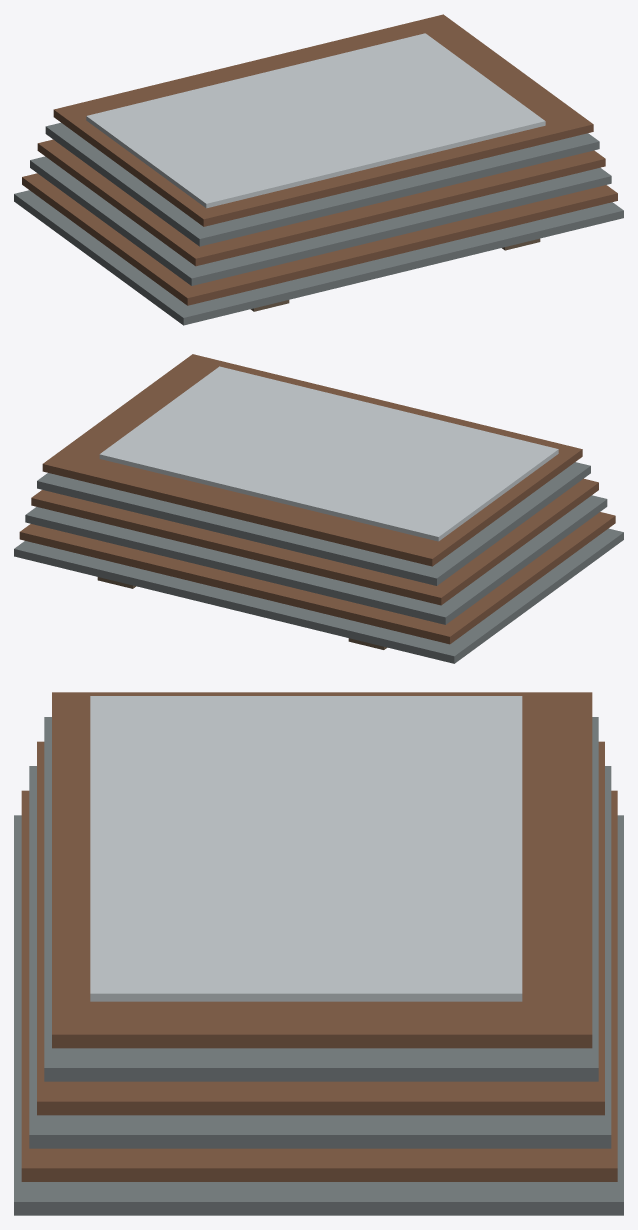
File: plate_stack.glb
3 views of the same model, one above another, from view 1: azimuth 30°, elevation 25°; view 2: azimuth 150°, elevation 25°; view 3: azimuth 270°, elevation 25° (orthographic). The views are drawn at different scales.
Visible parts, largest first — view 1: plate_stack; view 2: plate_stack; view 3: plate_stack.
Boxes of the visible parts, x1,y1,x2,y2 form: plate_stack: (14, 14, 623, 325); plate_stack: (14, 354, 623, 663); plate_stack: (14, 692, 623, 1215).
Bounding box in the file's own units: 3 × 0.7 × 2.
